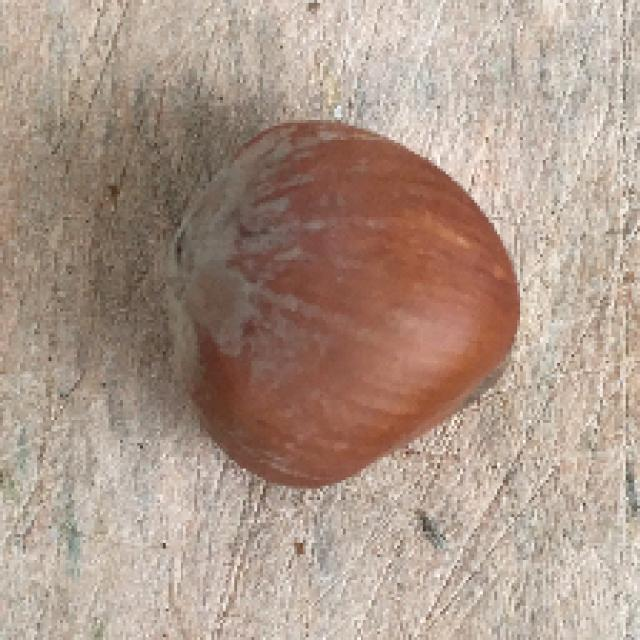qualityHazelnut: (149, 115, 528, 497)
